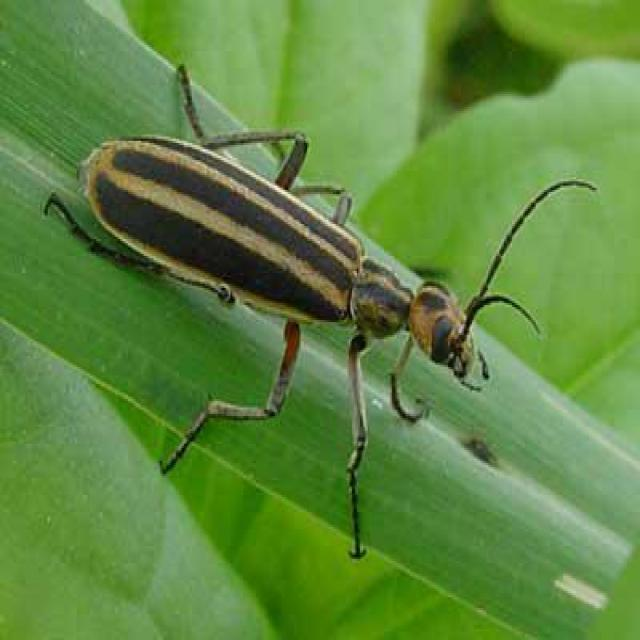BlisterBeetle-Adult-: (29, 53, 606, 479)
